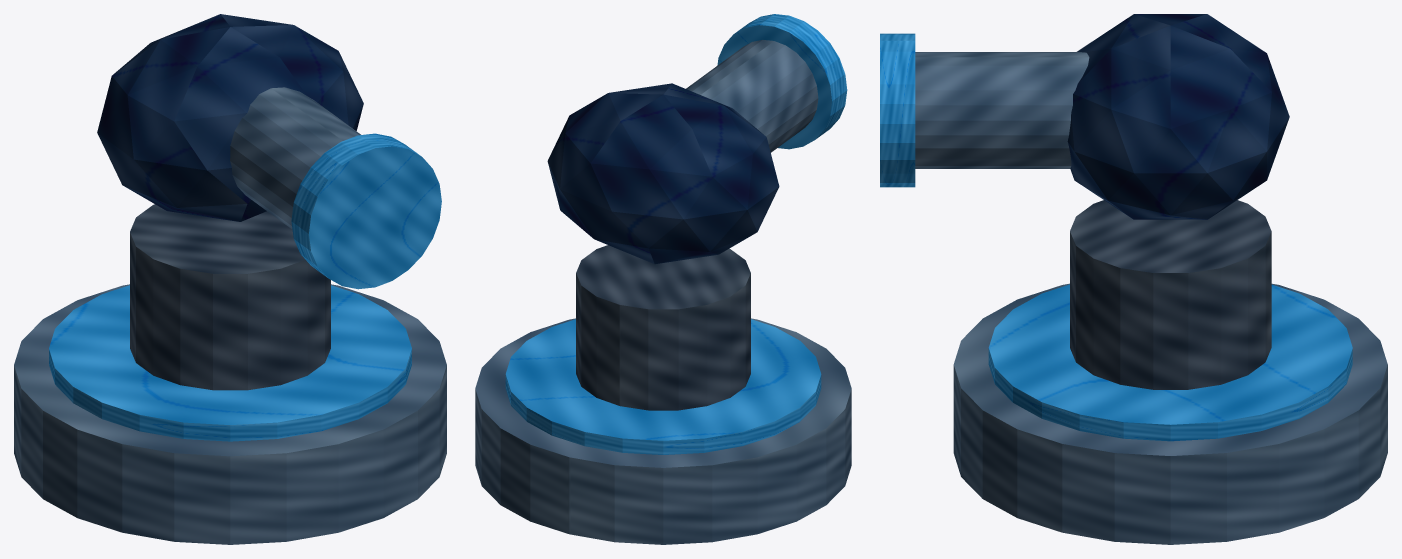
Rendered from 03_FrostbiteCannon.glb.
3 renders of one model, left to right at view 1: azimuth 30°, elevation 25°; view 2: azimuth 150°, elevation 25°; view 3: azimuth 270°, elevation 25°, orthographic. The views are drawn at different scales.
Parts seen in each view (by area): view 1: Stand_Base.002, Stand_Pedestal.002, Head_FrostbiteHousing, Stand_IceRing.002, Head_FrozenMuzzle, Head_HeavyCannon; view 2: Stand_Base.002, Head_FrostbiteHousing, Stand_Pedestal.002, Stand_IceRing.002, Head_HeavyCannon, Head_FrozenMuzzle; view 3: Stand_Base.002, Head_FrostbiteHousing, Stand_Pedestal.002, Stand_IceRing.002, Head_HeavyCannon, Head_FrozenMuzzle.
Part boxes in pixels (x1,y1,x2,y2): Stand_Base.002: [14, 284, 446, 544]; Stand_Pedestal.002: [130, 204, 330, 390]; Head_FrostbiteHousing: [97, 14, 363, 221]; Stand_IceRing.002: [49, 285, 411, 441]; Head_FrozenMuzzle: [291, 133, 441, 289]; Head_HeavyCannon: [230, 87, 360, 229]; Stand_Base.002: [475, 318, 851, 544]; Head_FrostbiteHousing: [547, 83, 779, 264]; Stand_Pedestal.002: [576, 245, 750, 410]; Stand_IceRing.002: [505, 319, 821, 454]; Head_HeavyCannon: [686, 40, 818, 152]; Head_FrozenMuzzle: [717, 14, 847, 149]; Stand_Base.002: [953, 283, 1387, 544]; Head_FrostbiteHousing: [1067, 14, 1289, 219]; Stand_Pedestal.002: [1070, 200, 1271, 389]; Stand_IceRing.002: [988, 284, 1352, 441]; Head_HeavyCannon: [915, 52, 1089, 168]; Head_FrozenMuzzle: [880, 33, 915, 187].
Bounding box in the file's own units: 3.1 × 3.37 × 3.62.
4 materials, 4 textured.
